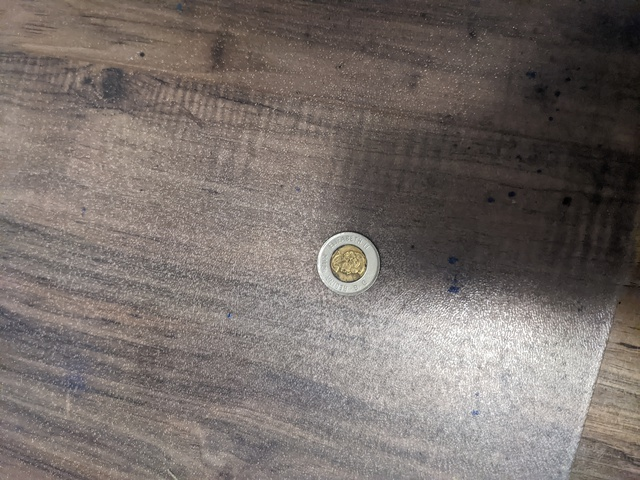twonie: (310, 228, 384, 294)
